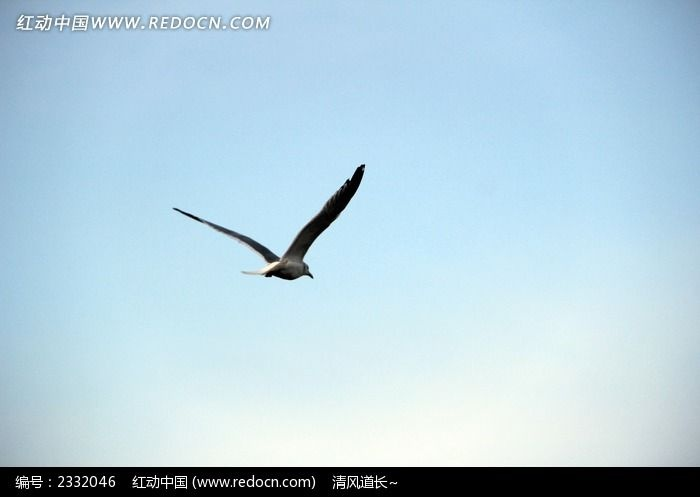bird: (162, 158, 368, 280)
